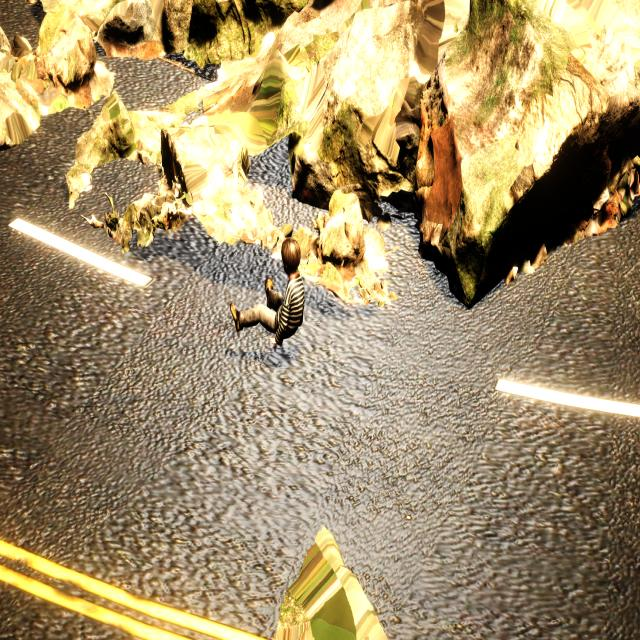Human: (230, 234, 308, 350)
